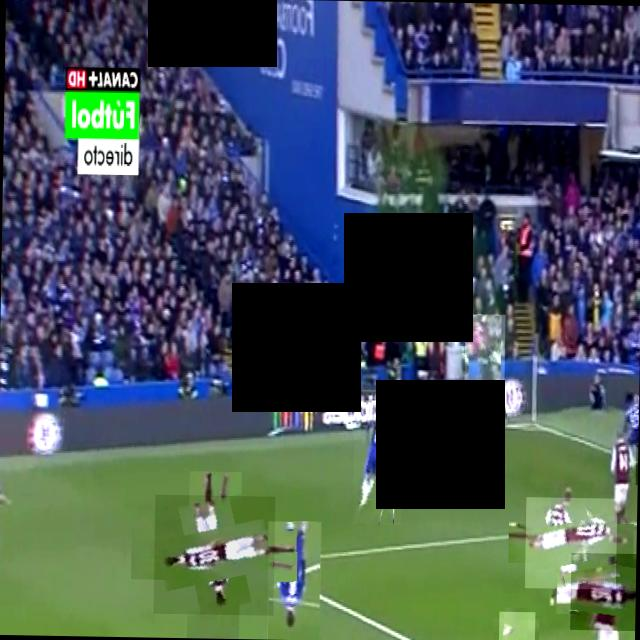ball: (635, 444, 638, 484)
referee: (463, 314, 505, 429), (498, 611, 535, 640)
soccer-player: (153, 494, 275, 615), (524, 496, 617, 590), (352, 388, 402, 524), (266, 520, 322, 640), (570, 552, 636, 630)
